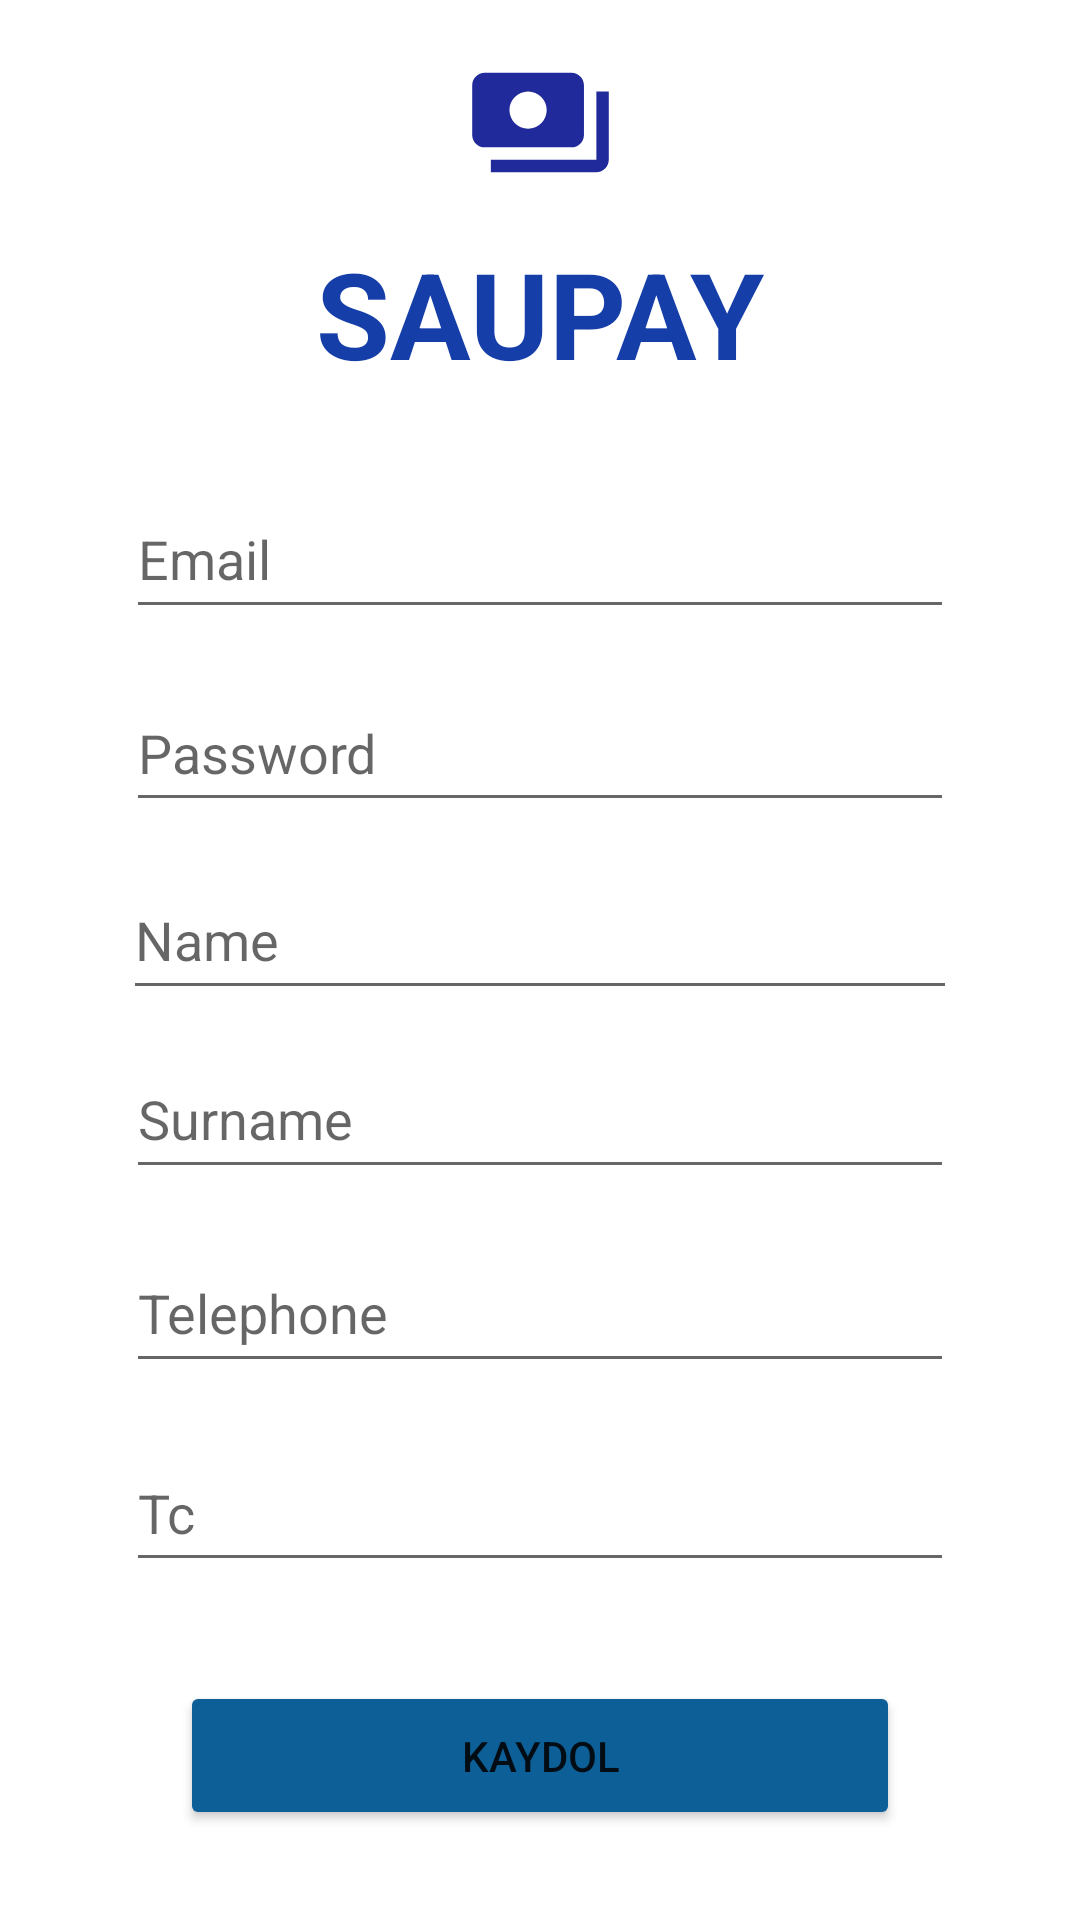

Point at icon controls on the screen. Image size 1080px×1920px, points as point (x, y).
payments: point (540, 122)
